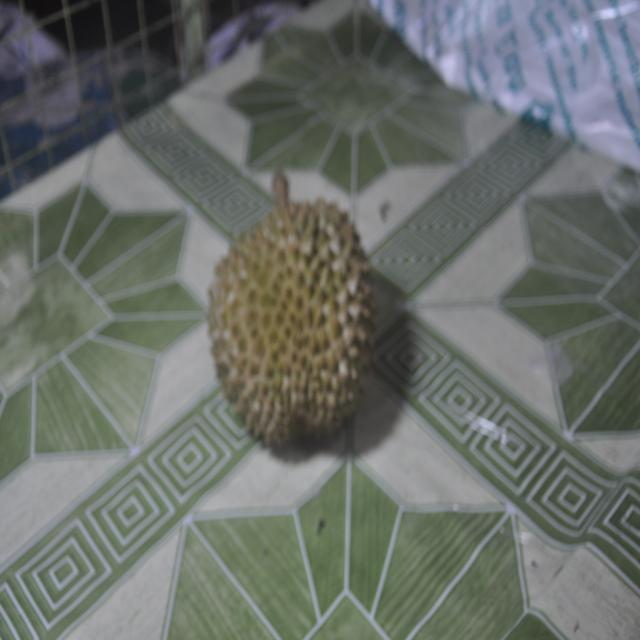mature: (182, 160, 412, 474)
